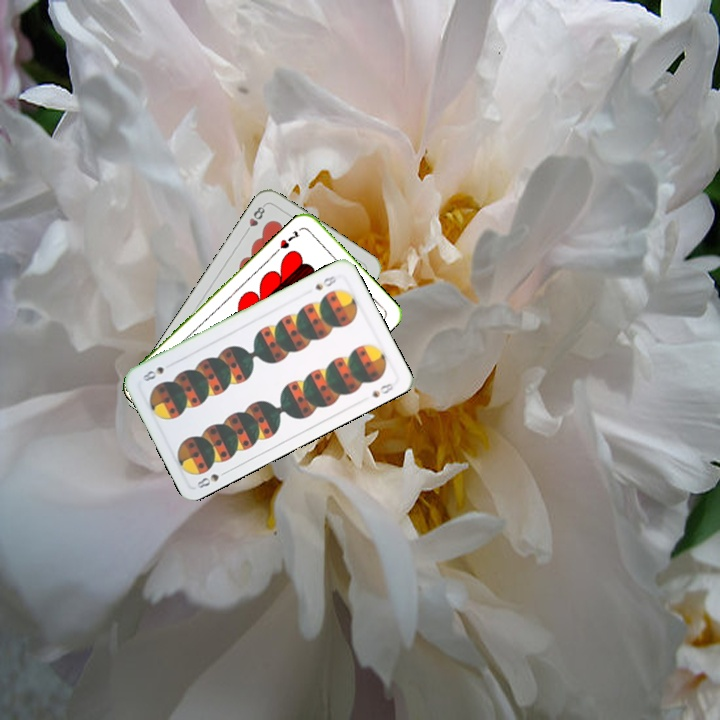H7: (276, 226, 302, 251)
H8: (241, 201, 267, 237)
S8: (193, 466, 231, 491), (311, 271, 340, 293)
